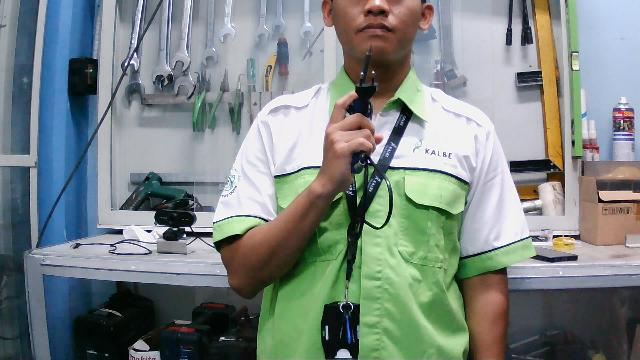solder_electrical: (347, 42, 395, 230)
